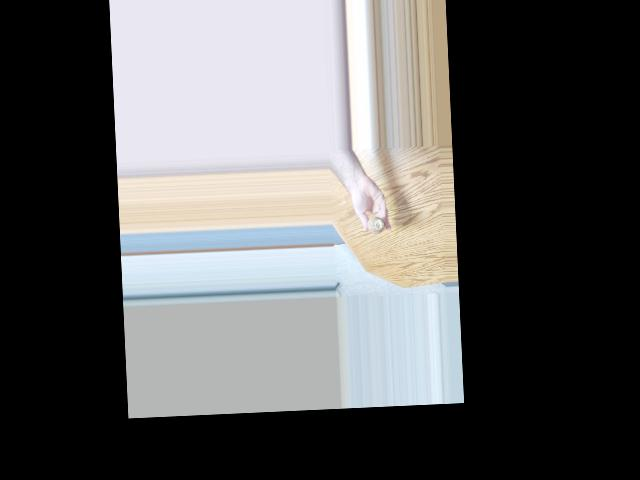sweet_potato: (364, 218, 384, 234)
